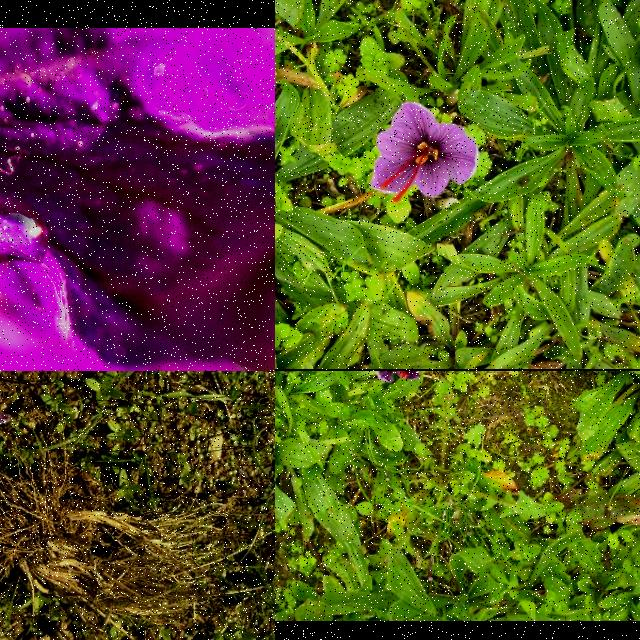flower: (369, 102, 479, 204), (376, 371, 422, 384)
